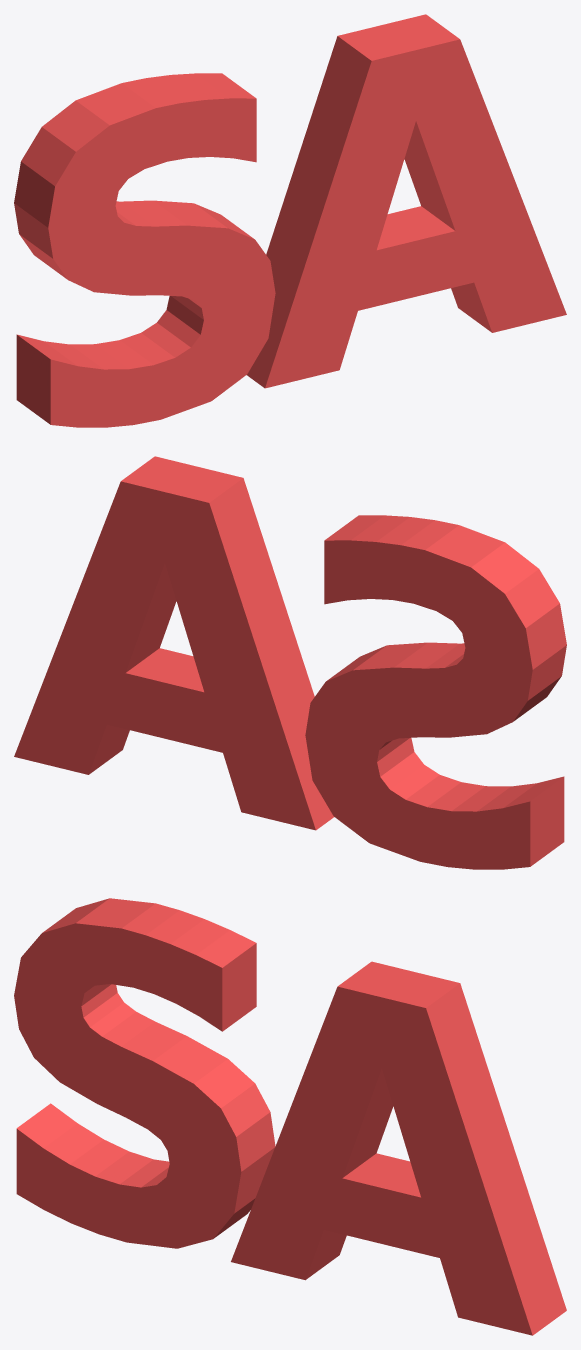
The model's file is suku_besar_sa.glb.
The picture shows the model from 3 angles, top to bottom: view 1: azimuth 30°, elevation 25°; view 2: azimuth 150°, elevation 25°; view 3: azimuth 330°, elevation 25°; orthographic projection.
Parts seen in each view (by area): view 1: geometry_0; view 2: geometry_0; view 3: geometry_0.
Boxes of the visible parts, bbox=[...] form: geometry_0: bbox=[14, 14, 566, 427]; geometry_0: bbox=[14, 456, 566, 869]; geometry_0: bbox=[14, 898, 566, 1335].
Bounding box in the file's own units: 13.13 × 7.56 × 1.5.
